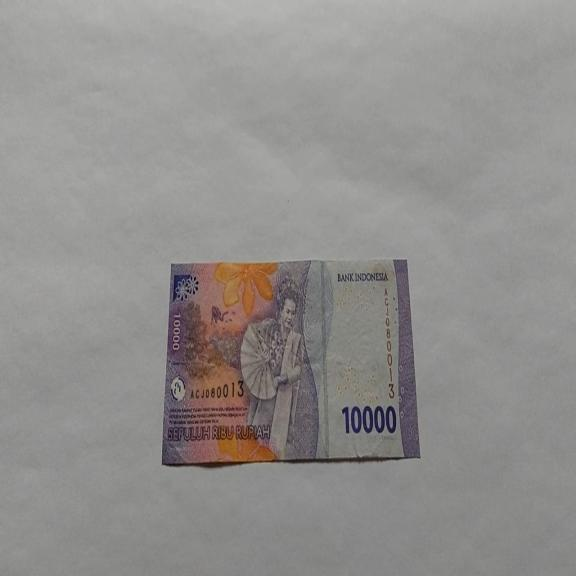Kertas: (160, 257, 420, 466), (341, 402, 397, 436)
